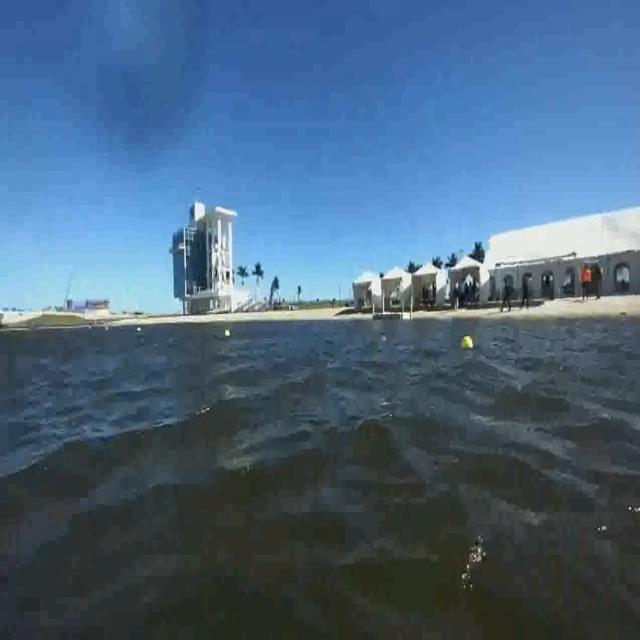yellow-buoy: (461, 335, 474, 353)
